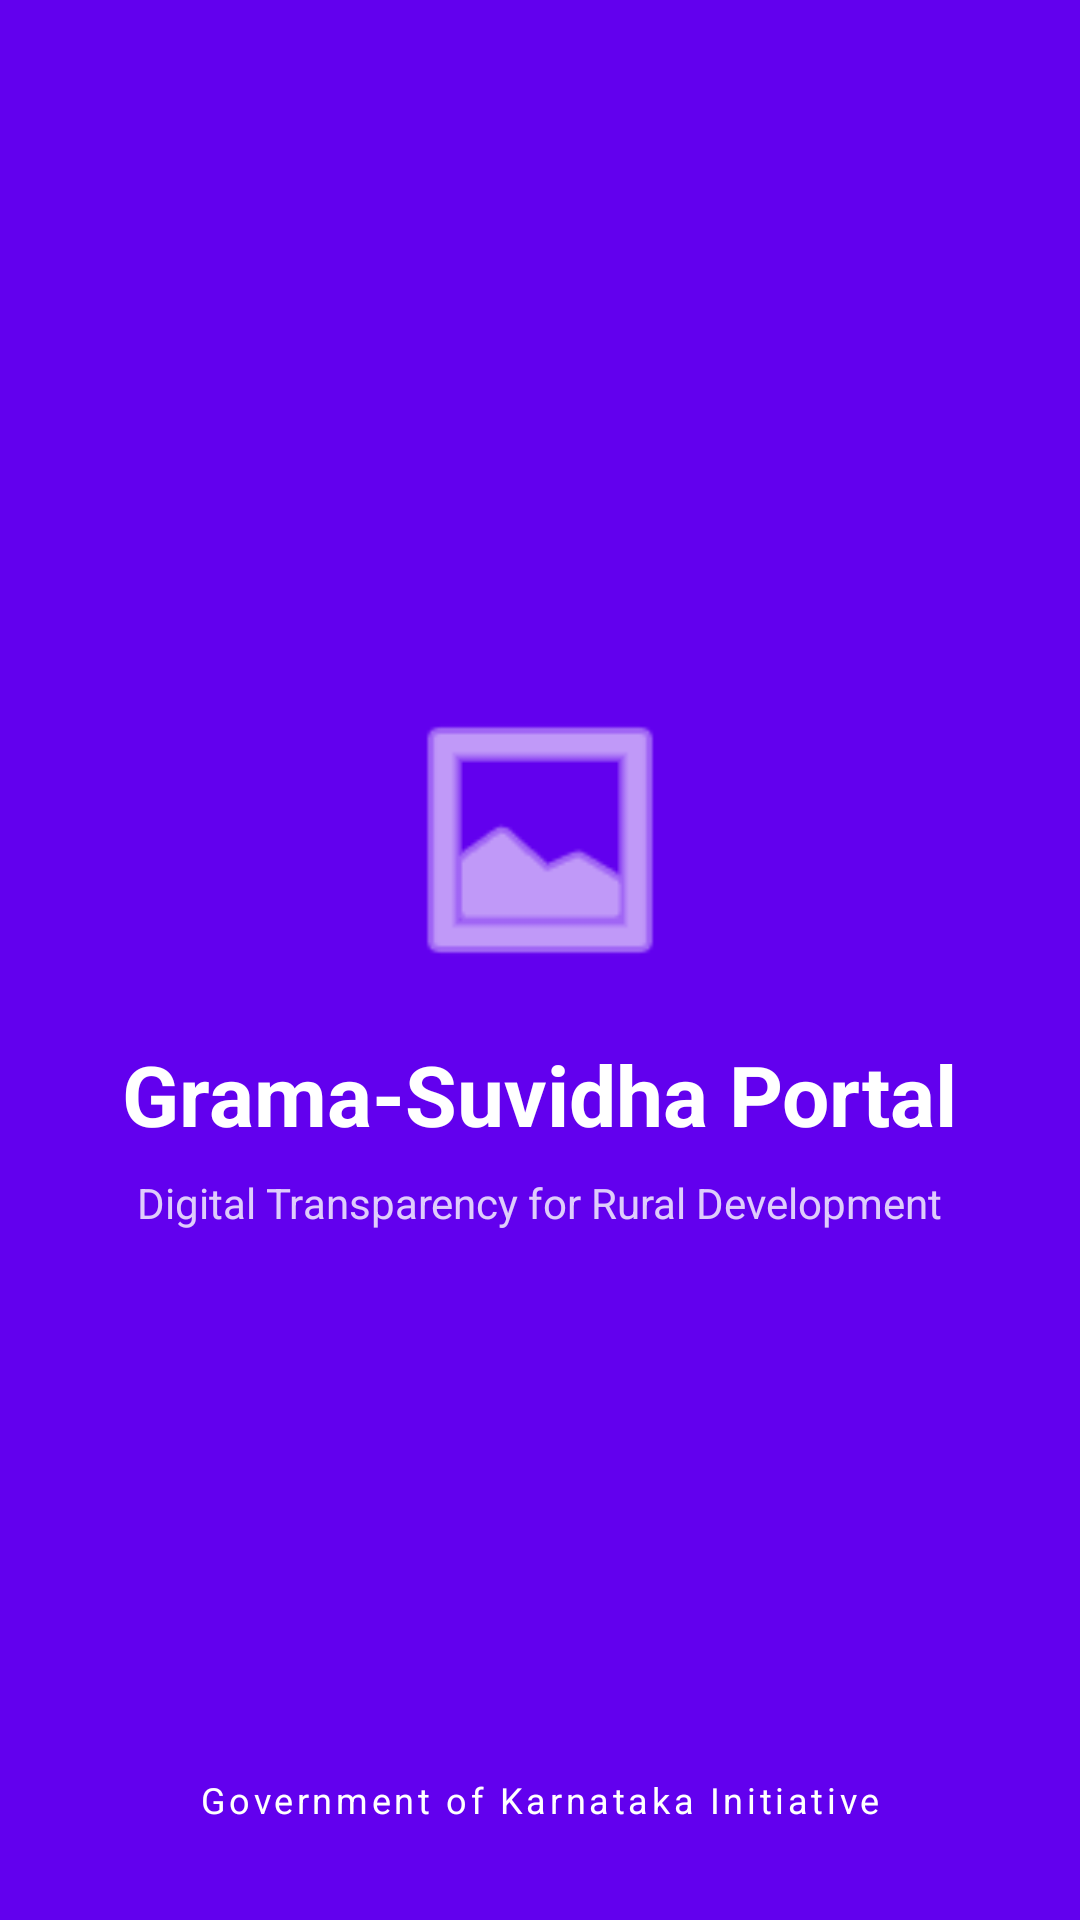

Named icons in this screenshot (1080px×1920px) and their bounding boxes, (x1=x1, y1=y1, x2=x2, y2=y2):
gallery: (x1=427, y1=727, x2=653, y2=953)
